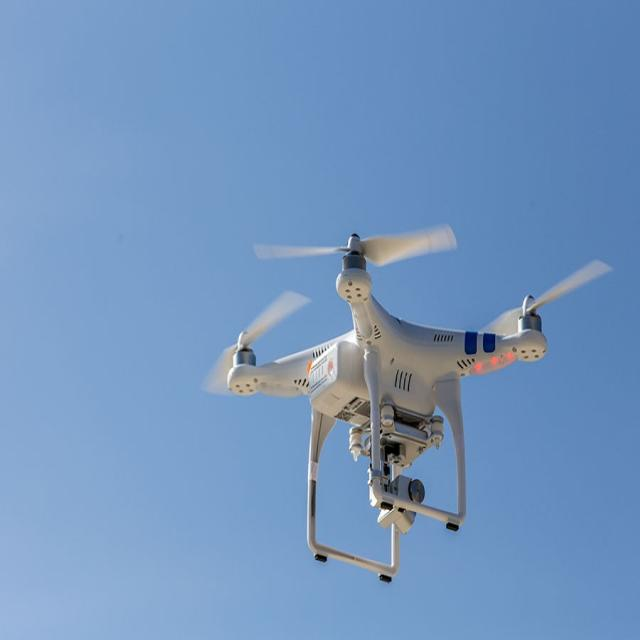drone: (197, 216, 614, 588)
